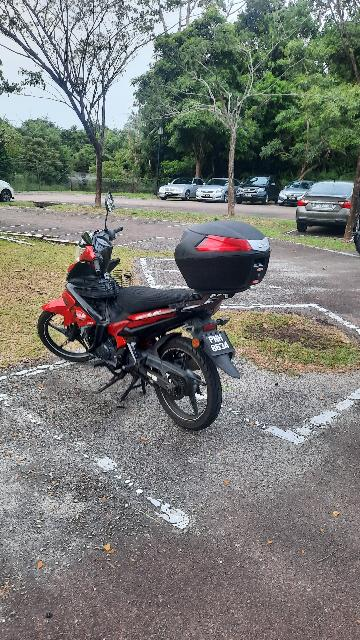License_Plate: (200, 327, 240, 362)
car: (289, 174, 360, 236)
motorcycle: (36, 190, 287, 436)
